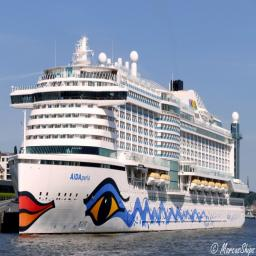cruises: (8, 33, 251, 237)
